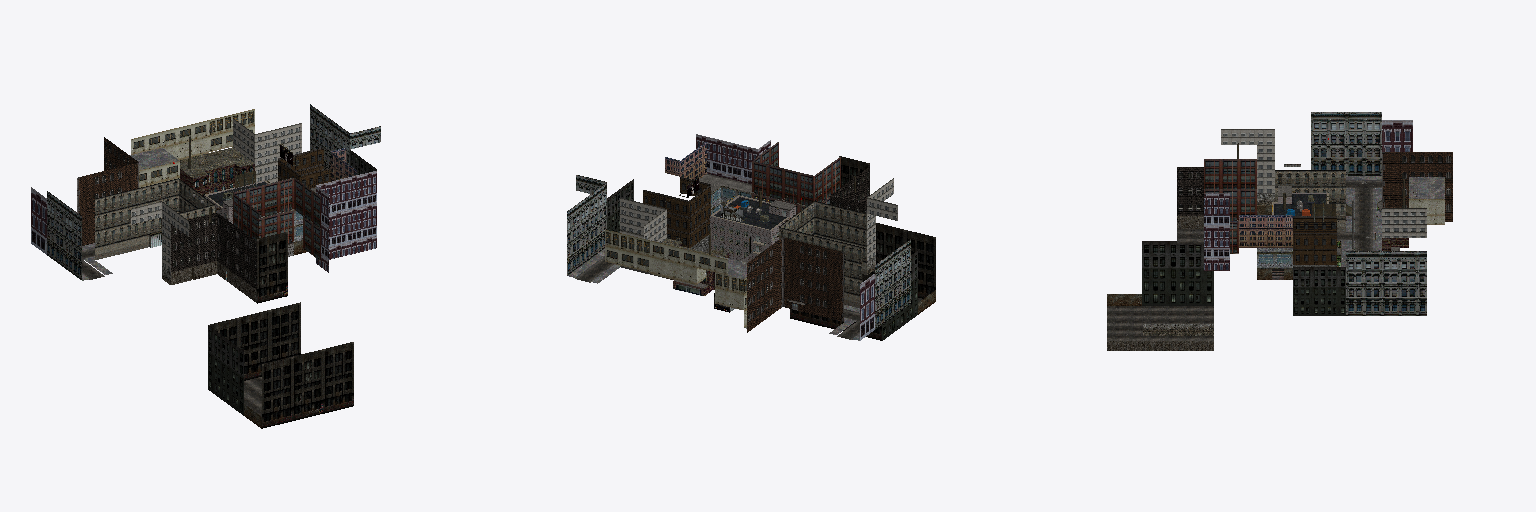
3 views of the same model, side by side, from view 1: azimuth 30°, elevation 25°; view 2: azimuth 150°, elevation 25°; view 3: azimuth 270°, elevation 25° (orthographic).
Visible parts, largest first — view 1: a; view 2: a; view 3: a.
Part boxes in pixels (bbox=[...]): a: bbox=[31, 104, 380, 428]; a: bbox=[567, 134, 935, 340]; a: bbox=[1107, 112, 1452, 350].
Bounding box in the file's own units: 131 × 70.9 × 124.
Materials: 119 (119 with a texture image).